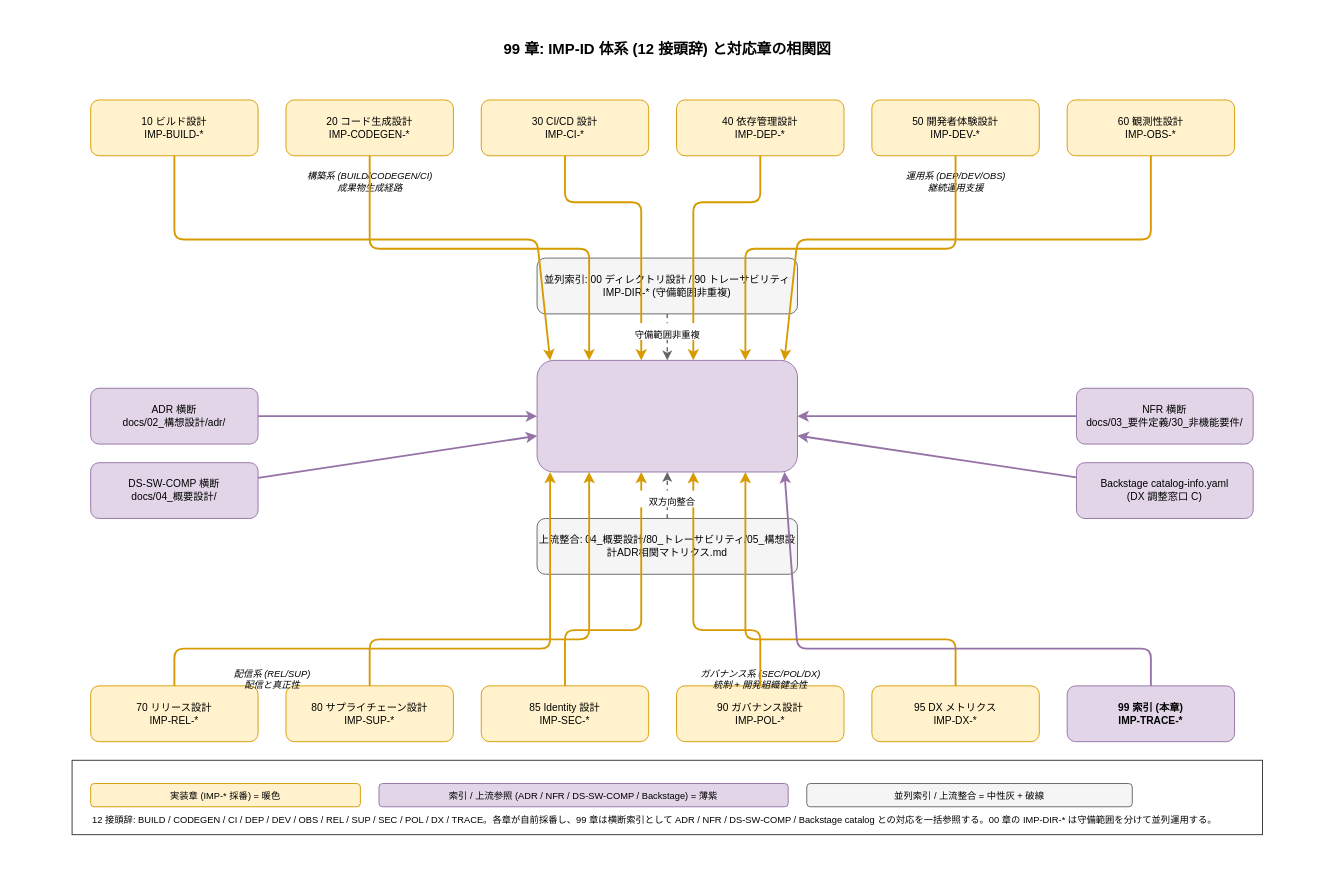
This 1334x869 diagram has some shape labels left out. Here are the shapes that lost their labels. From the top down, the box of each, then its label:
(536, 359, 797, 472): 99 索引 (IMP-TRACE-*) ADR / NFR / DS-SW-COMP / Backstage catalog 双方向トレーサビリティ
(71, 759, 1262, 835): 凡例
